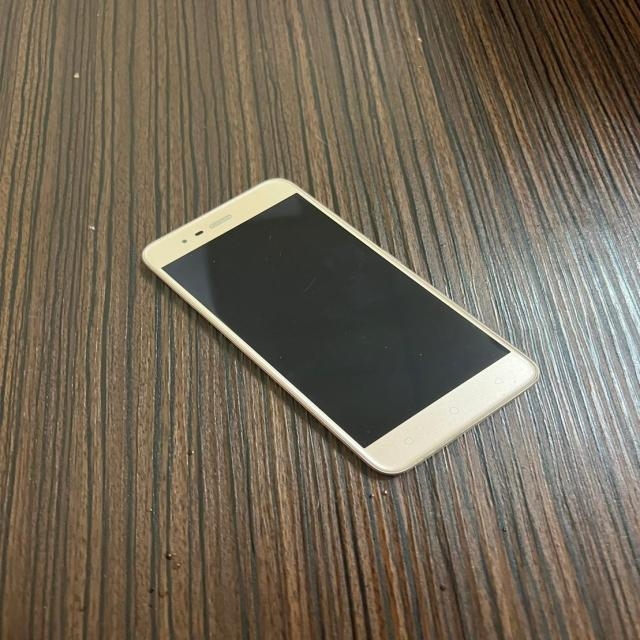Smartphone: (124, 146, 552, 490)
